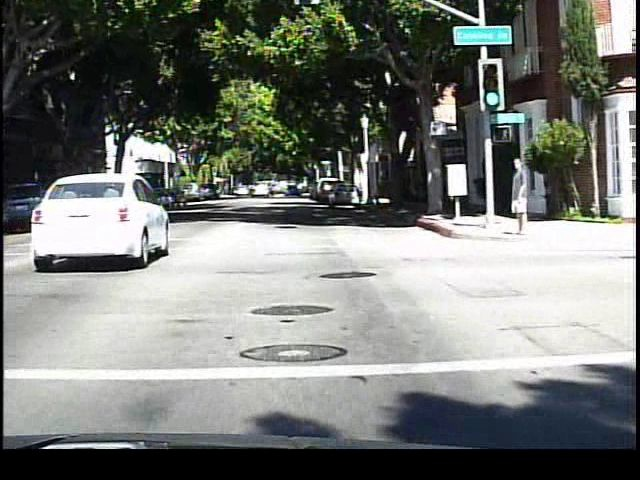person: (504, 152, 533, 239)
